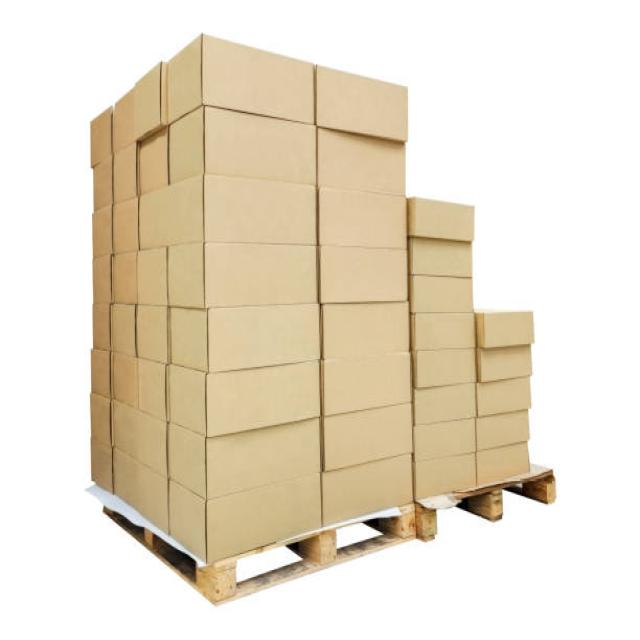Wooden-Pallets: (87, 487, 412, 608), (419, 463, 559, 554)
